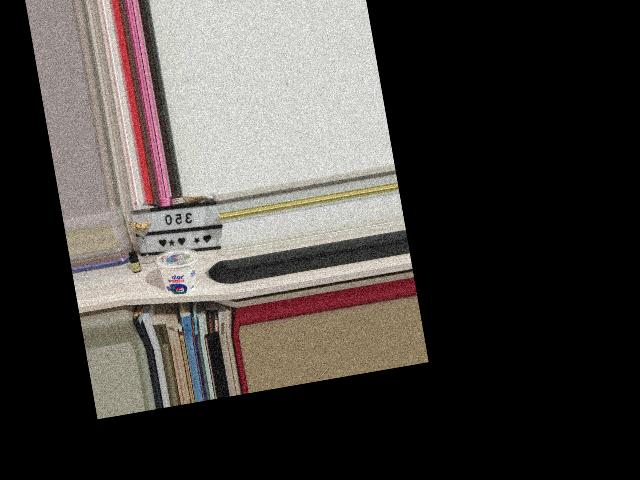cotage: (157, 244, 201, 299)
